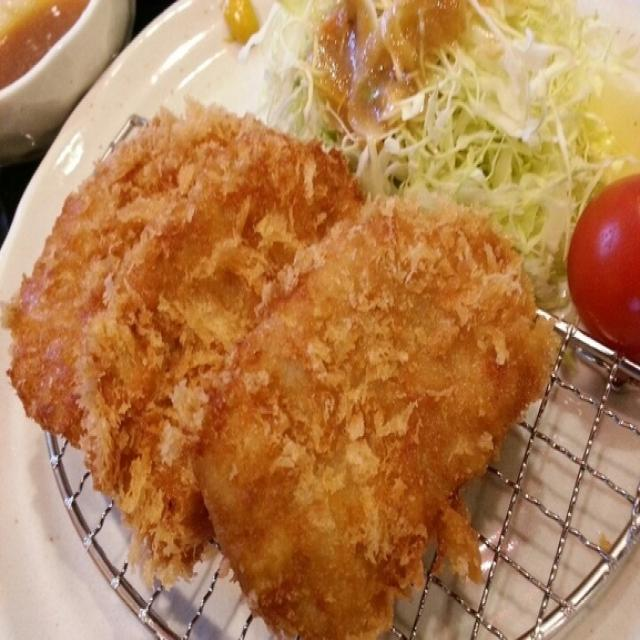牛肉菜式: (6, 47, 589, 631)
